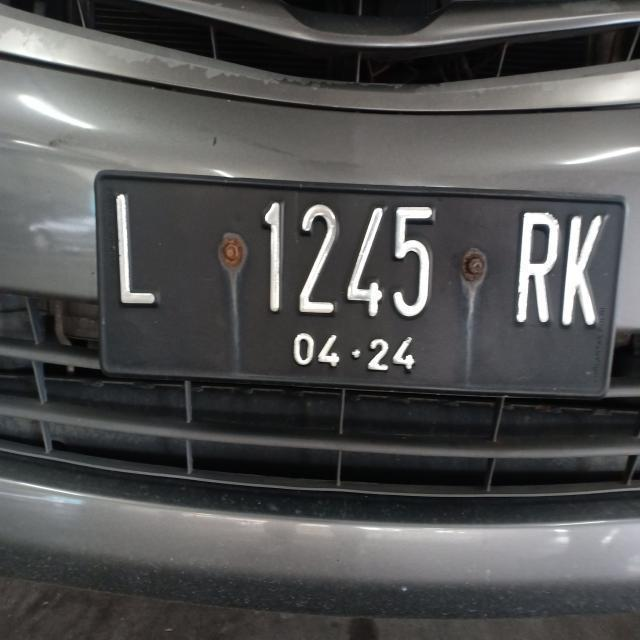1: (251, 196, 292, 328)
2: (296, 200, 345, 328)
4: (344, 197, 387, 324)
5: (386, 194, 436, 325)
K: (563, 206, 603, 340)
L: (106, 175, 166, 316)
R: (512, 200, 562, 334)
